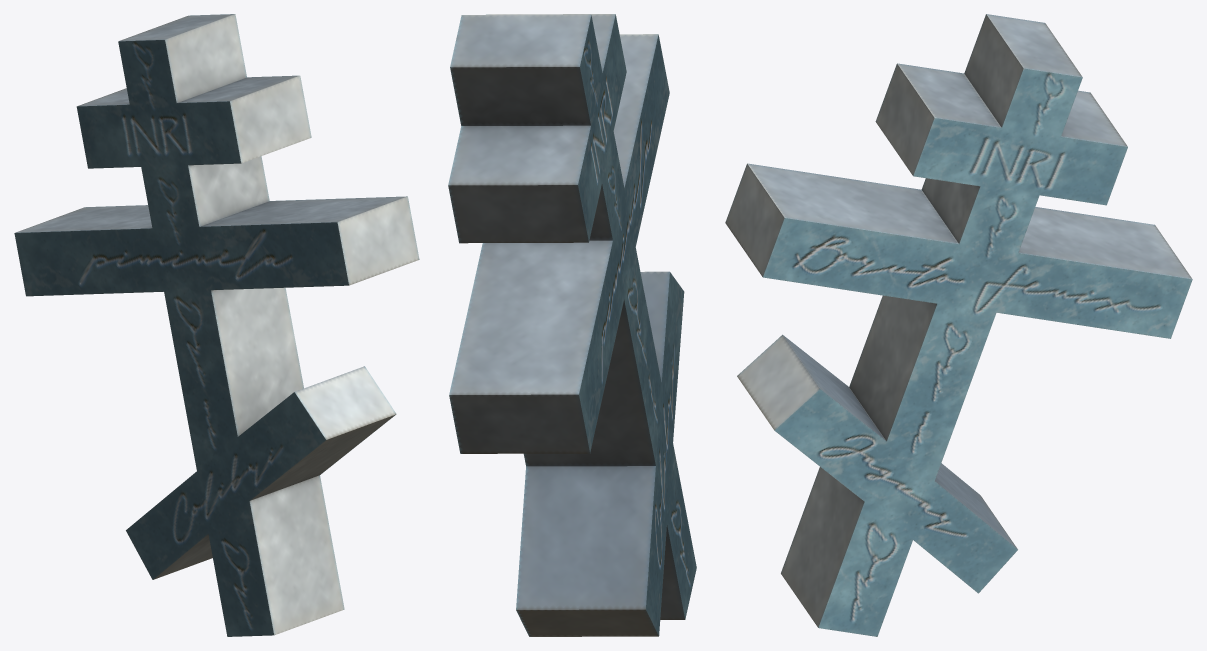
3 views of the same model, side by side, from view 1: azimuth 30°, elevation 25°; view 2: azimuth 150°, elevation 25°; view 3: azimuth 270°, elevation 25° (orthographic). The views are drawn at different scales.
Visible parts, largest first — view 1: Cruz_Orto_Cube.011; view 2: Cruz_Orto_Cube.011; view 3: Cruz_Orto_Cube.011.
Boxes of the visible parts, left/top/right/bottom form: Cruz_Orto_Cube.011: left=14, top=14, right=419, bottom=636; Cruz_Orto_Cube.011: left=448, top=14, right=696, bottom=636; Cruz_Orto_Cube.011: left=725, top=14, right=1192, bottom=636.
Size of the model in its own units: 1.11 by 2.69 by 1.96.
